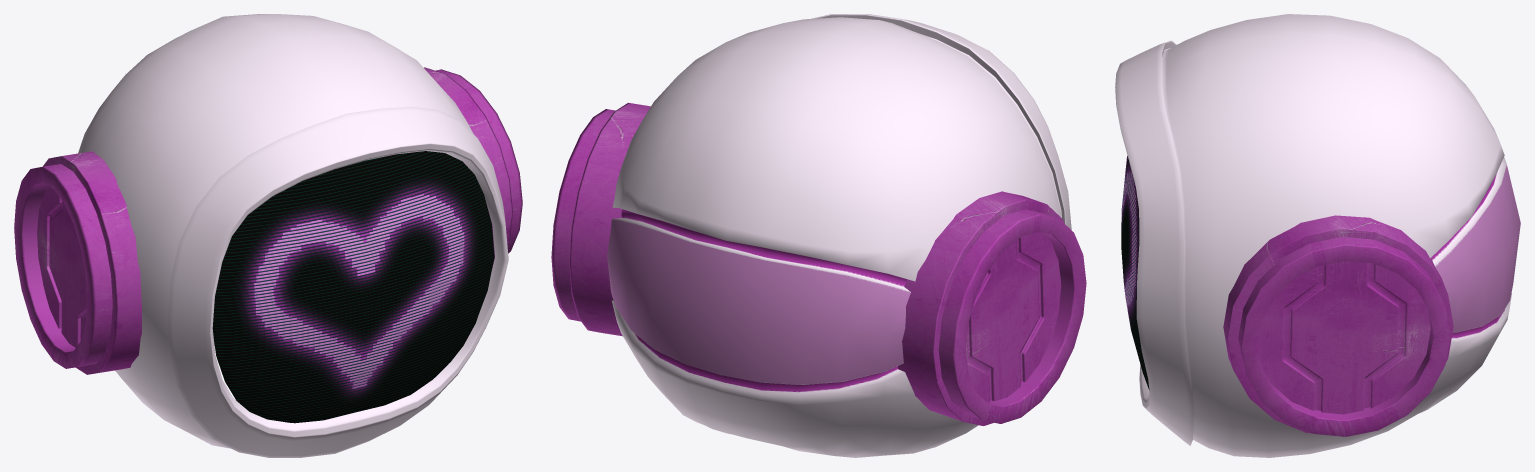
The model's file is head_03.glb.
3 renders of one model, left to right at view 1: azimuth 30°, elevation 25°; view 2: azimuth 150°, elevation 25°; view 3: azimuth 270°, elevation 25°, orthographic. The views are drawn at different scales.
Parts seen in each view (by area): view 1: head, mask, ear; view 2: head, ear; view 3: head, ear, mask.
Boxes of the visible parts, x1=… form: head: x1=78, y1=14, x2=508, y2=457; mask: x1=212, y1=151, x2=494, y2=423; ear: x1=14, y1=67, x2=522, y2=374; head: x1=607, y1=14, x2=1071, y2=457; ear: x1=551, y1=102, x2=1086, y2=425; head: x1=1115, y1=14, x2=1520, y2=457; ear: x1=1223, y1=215, x2=1453, y2=436; mask: x1=1121, y1=155, x2=1149, y2=389.
Size of the model in its own units: 0.0778 by 0.0671 by 0.062.
Materials: 2 (2 with a texture image).
